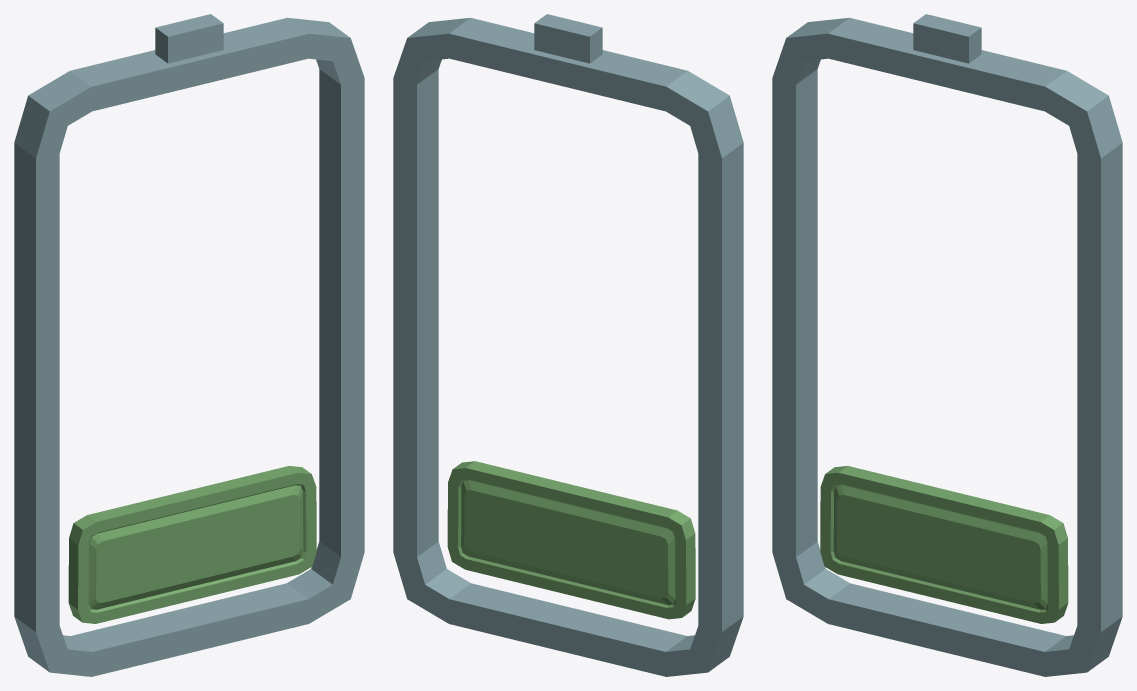
File: Article timing.fbx
The picture shows the model from 3 angles, left to right: view 1: azimuth 30°, elevation 25°; view 2: azimuth 150°, elevation 25°; view 3: azimuth 330°, elevation 25°; orthographic projection.
Parts seen in each view (by area): view 1: Box033, 对象034; view 2: Box033, 对象034; view 3: Box033, 对象034.
Part boxes in pixels (x1=…): Box033: x1=14, y1=14, x2=364, y2=676; 对象034: x1=68, y1=466, x2=316, y2=623; Box033: x1=393, y1=14, x2=743, y2=676; 对象034: x1=447, y1=461, x2=695, y2=619; Box033: x1=772, y1=14, x2=1122, y2=676; 对象034: x1=820, y1=466, x2=1068, y2=623.
Size of the model in its own units: 69.33 by 124 by 7.94.
